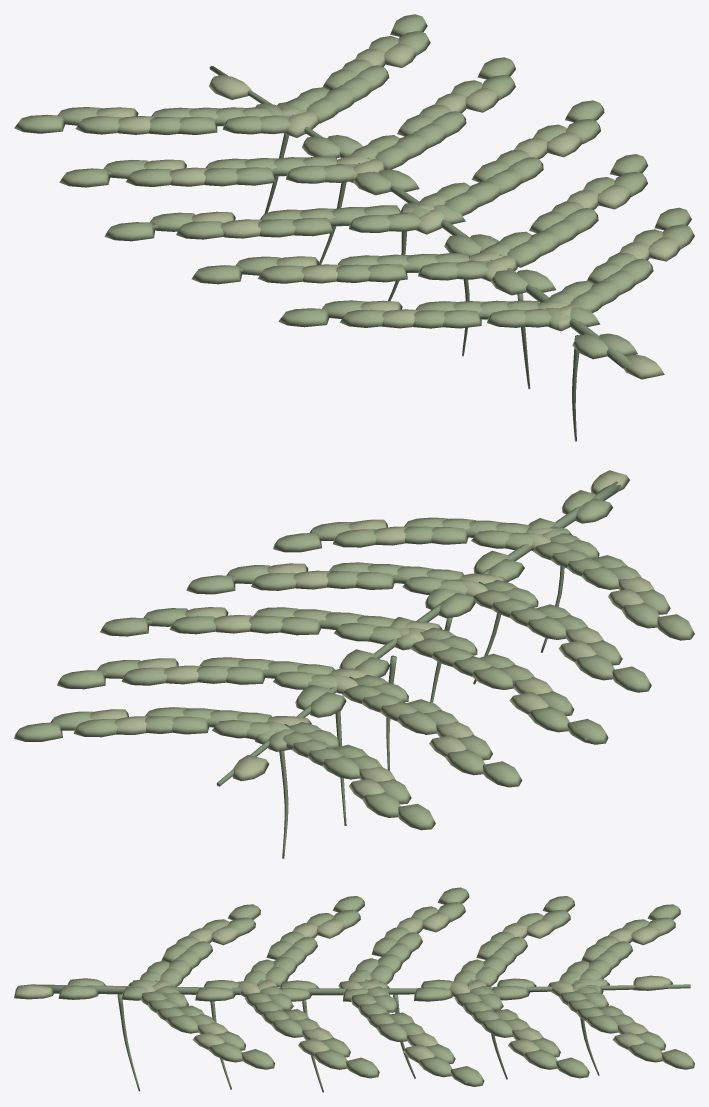
File: azolla.glb
3 views of the same model, one above another, from view 1: azimuth 30°, elevation 25°; view 2: azimuth 150°, elevation 25°; view 3: azimuth 270°, elevation 25° (orthographic). The views are drawn at different scales.
Visible parts, largest first — view 1: overlapping small scale fronds in two alternate ranks, connected creeping freshwater branch units, restrained submerged root hints; view 2: overlapping small scale fronds in two alternate ranks, connected creeping freshwater branch units, restrained submerged root hints; view 3: overlapping small scale fronds in two alternate ranks, connected creeping freshwater branch units, restrained submerged root hints.
Boxes of the visible parts, left/top/right/bottom form: overlapping small scale fronds in two alternate ranks: left=14, top=14, right=694, bottom=379; connected creeping freshwater branch units: left=63, top=65, right=647, bottom=368; restrained submerged root hints: left=264, top=133, right=579, bottom=441; overlapping small scale fronds in two alternate ranks: left=14, top=470, right=694, bottom=830; connected creeping freshwater branch units: left=59, top=481, right=628, bottom=786; restrained submerged root hints: left=279, top=566, right=564, bottom=858; overlapping small scale fronds in two alternate ranks: left=14, top=887, right=694, bottom=1086; connected creeping freshwater branch units: left=34, top=893, right=690, bottom=1084; restrained submerged root hints: left=117, top=994, right=599, bottom=1092.
Bounding box in the file's own units: 0.0708 × 0.0179 × 0.1038.
